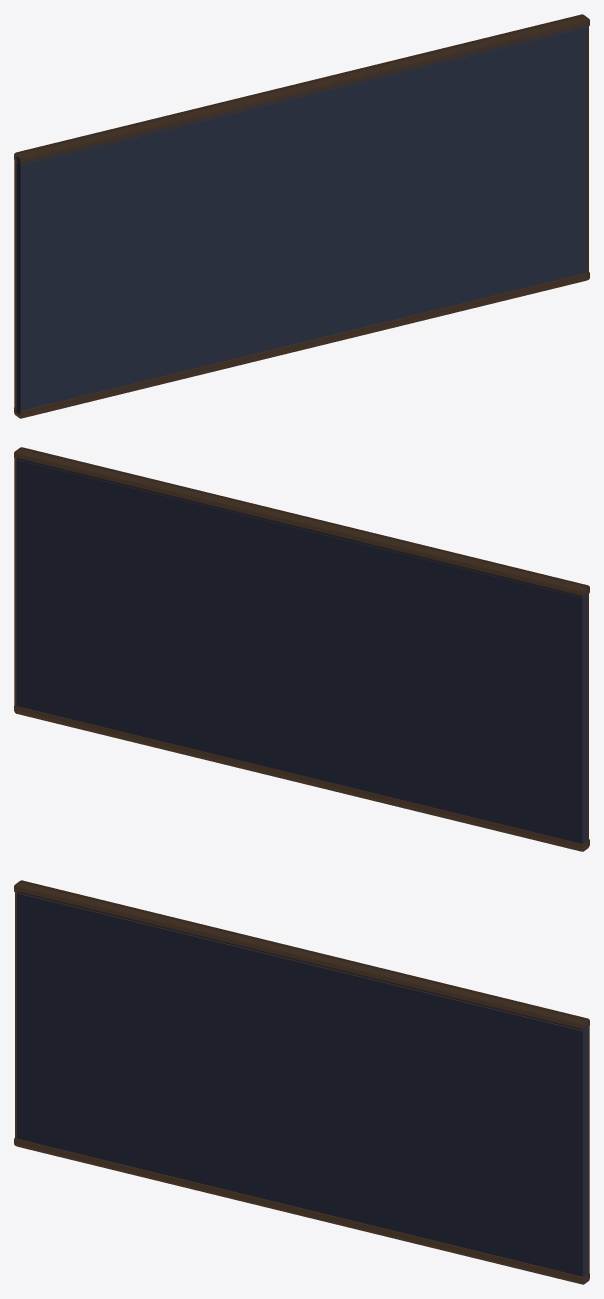
File: parede-direita.glb
The picture shows the model from 3 angles, top to bottom: view 1: azimuth 30°, elevation 25°; view 2: azimuth 150°, elevation 25°; view 3: azimuth 330°, elevation 25°; orthographic projection.
Parts seen in each view (by area): view 1: parede-direita, parede-direita_outline; view 2: parede-direita, parede-direita_outline; view 3: parede-direita, parede-direita_outline.
Part boxes in pixels (box(x1,y1,x2,y2)): parede-direita: box(16, 16, 587, 415); parede-direita_outline: box(14, 14, 589, 418); parede-direita: box(16, 449, 587, 848); parede-direita_outline: box(14, 447, 589, 851); parede-direita: box(16, 882, 587, 1281); parede-direita_outline: box(14, 880, 589, 1284).
Size of the model in its own units: 6.04 by 2.66 by 0.1393.
